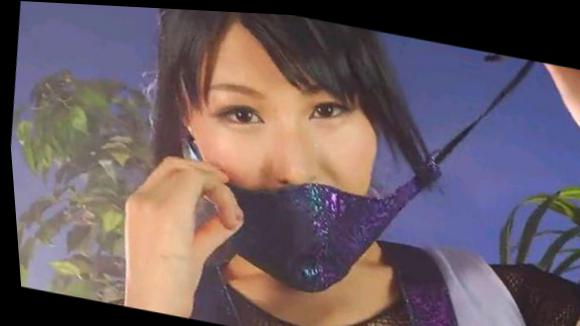WRONG: (172, 60, 404, 289)
